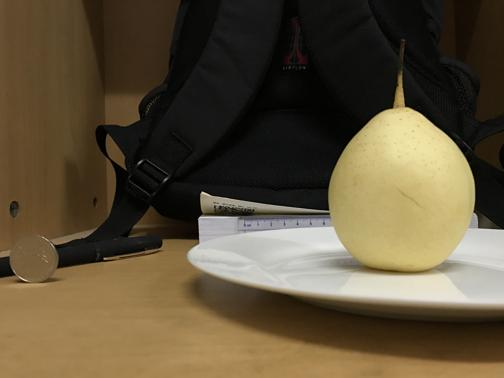coin: (11, 235, 59, 282)
pear: (327, 105, 476, 271)
